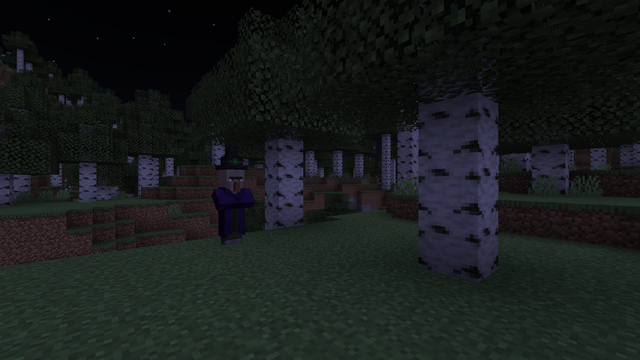sorcieres: (215, 166, 247, 247)
